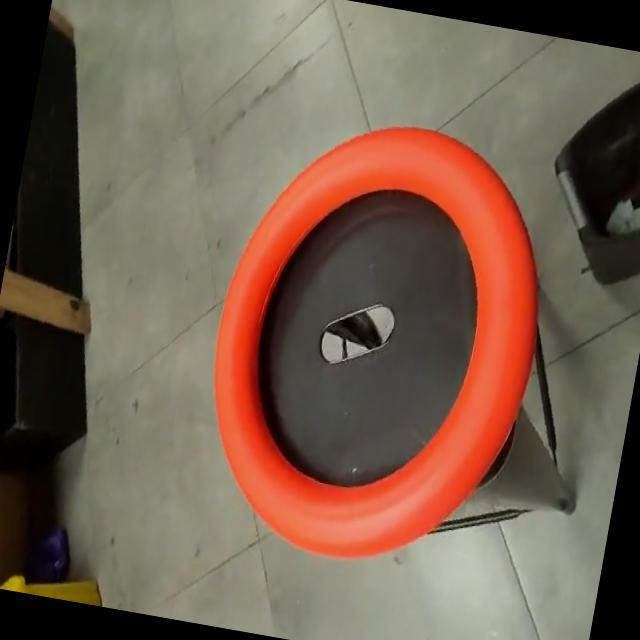note: (177, 93, 572, 590)
